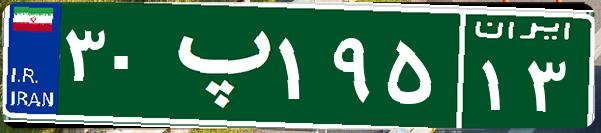0: (110, 28, 158, 105)
1: (273, 28, 330, 110), (475, 38, 525, 113)
3: (57, 26, 110, 107), (525, 38, 570, 115)
5: (385, 28, 445, 110)
9: (330, 28, 385, 110)
پ: (158, 15, 273, 115)
